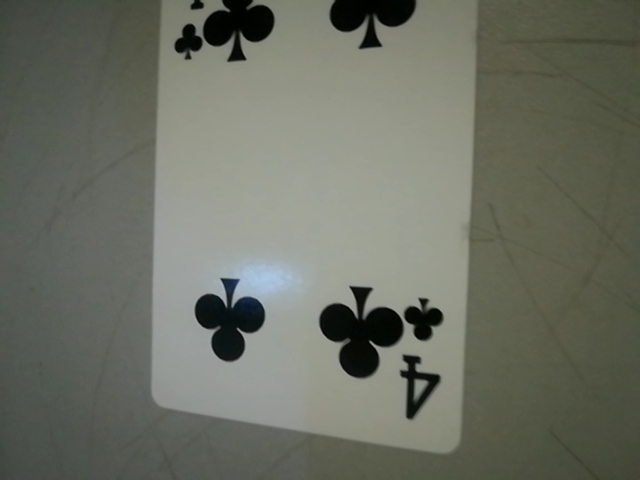mh 4: (399, 293, 449, 416)
